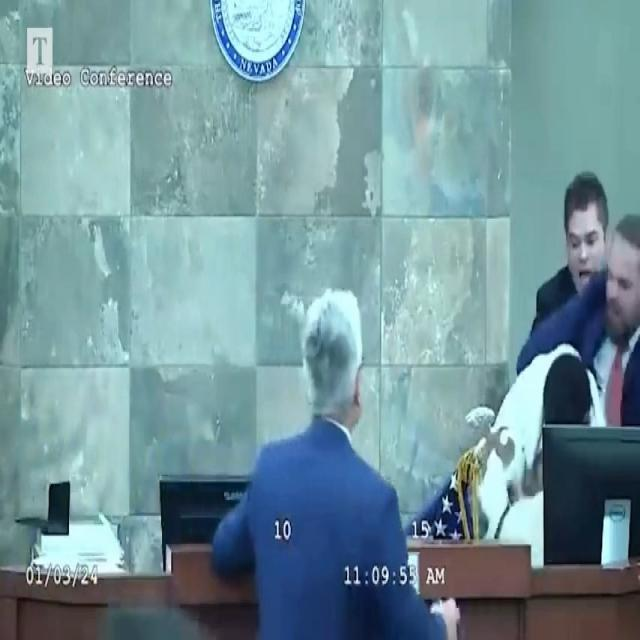fight: (485, 153, 640, 545)
non-fight: (203, 283, 468, 640)
